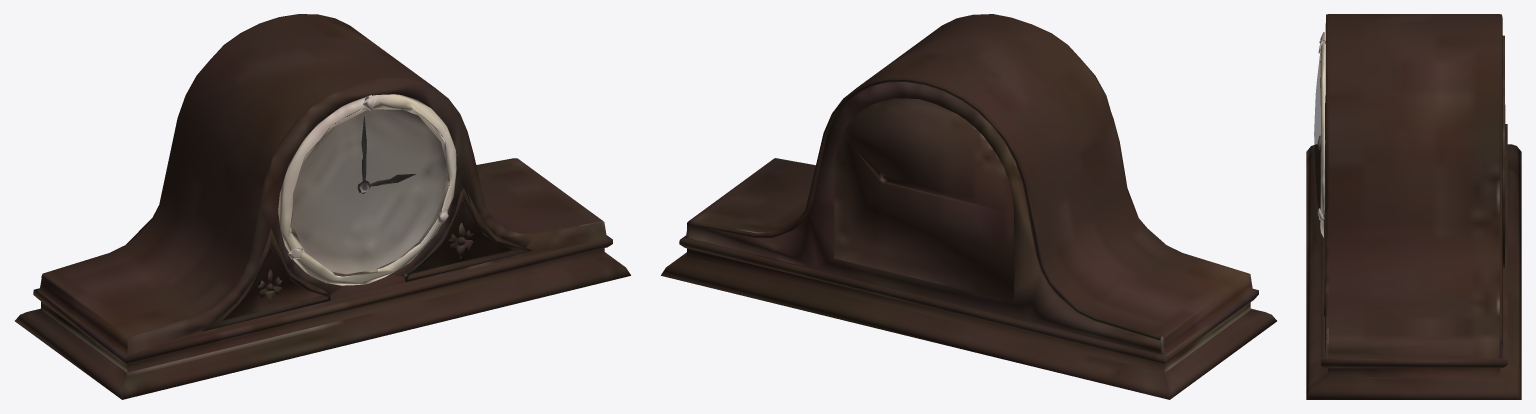
File: design-mantel-clock-01.glb
The picture shows the model from 3 angles, left to right: view 1: azimuth 30°, elevation 25°; view 2: azimuth 150°, elevation 25°; view 3: azimuth 270°, elevation 25°; orthographic projection.
Visible parts, largest first — view 1: mantel_clock_01, mantel_clock_01_glass; view 2: mantel_clock_01; view 3: mantel_clock_01, mantel_clock_01_glass.
Boxes of the visible parts, bbox=[...] form: mantel_clock_01: bbox=[15, 14, 630, 399]; mantel_clock_01_glass: bbox=[290, 108, 448, 275]; mantel_clock_01: bbox=[661, 14, 1276, 399]; mantel_clock_01: bbox=[1306, 14, 1521, 399]; mantel_clock_01_glass: bbox=[1314, 50, 1320, 209].
Size of the model in its own units: 0.3418 by 0.1604 by 0.1252.
2 materials, 2 textured.
